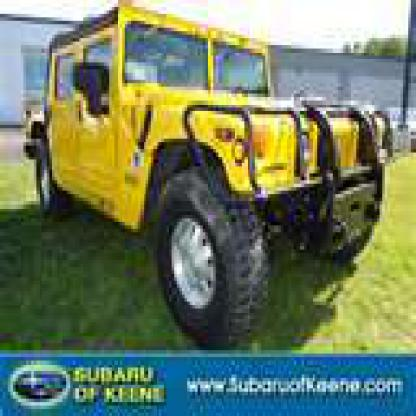Vehicle: (24, 4, 396, 357)
